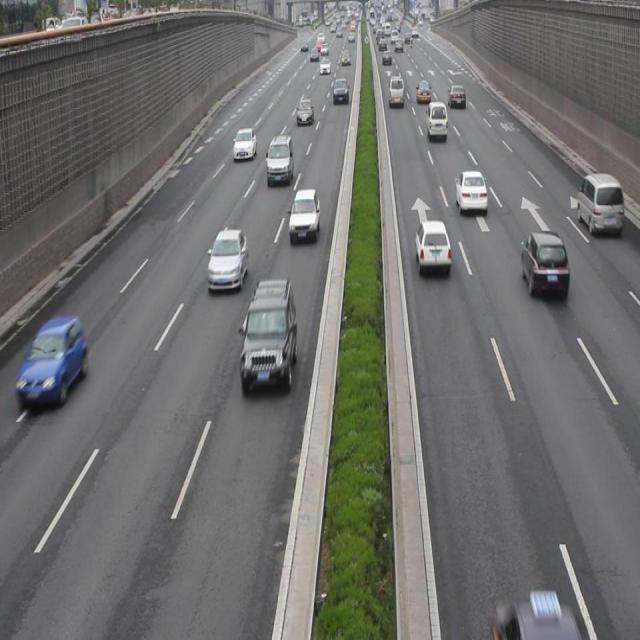car: (16, 312, 87, 408), (241, 278, 296, 387), (493, 590, 580, 640), (521, 229, 568, 297), (208, 228, 247, 290), (414, 219, 450, 272), (288, 187, 320, 240), (455, 166, 486, 216), (232, 128, 256, 160), (295, 98, 314, 124)
truck: (576, 173, 622, 234), (266, 136, 293, 183), (426, 100, 448, 141)
